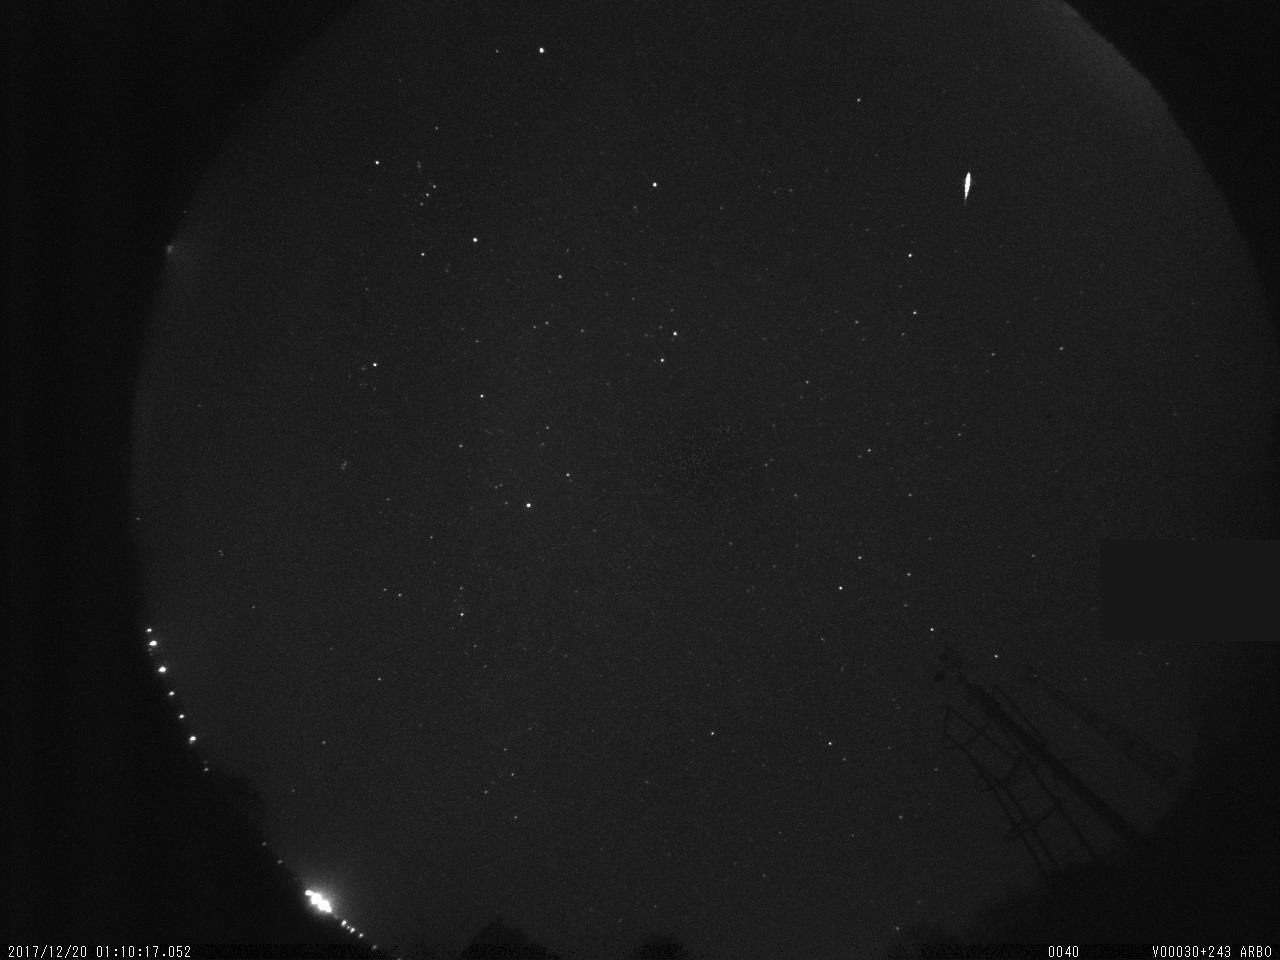meteor: (949, 155, 988, 210)
